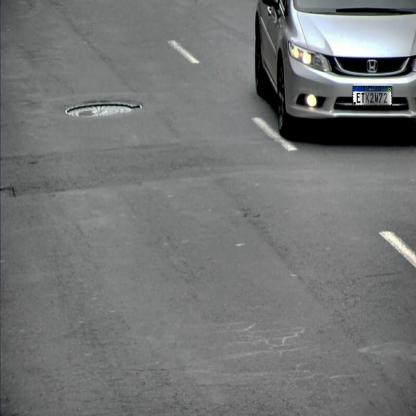PlacaM: (353, 86, 392, 106)
